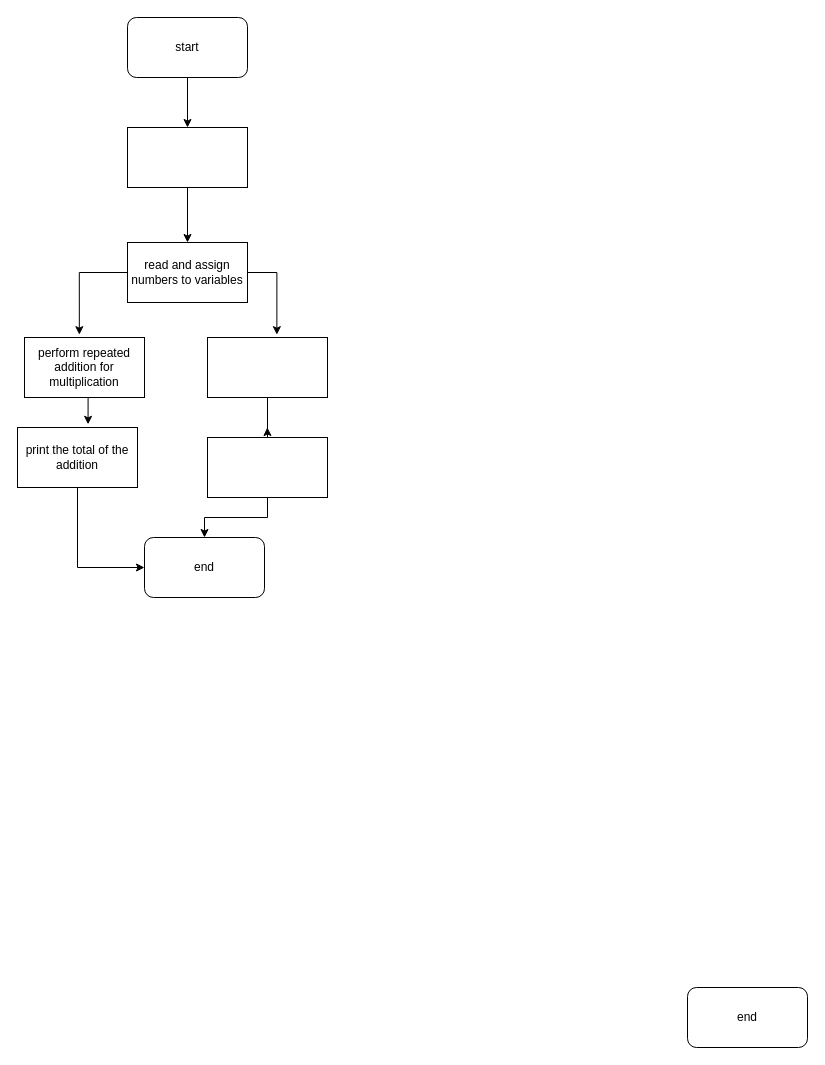
Some shapes in this 825 by 1065 pixel diagram are drawn without their labels. The box of each missing label's shape, as (x1, y1, x2, y2) in pixels:
perform repeated subtraction for division and count: (206, 336, 328, 398)
print the number of times subtraction occured: (206, 436, 328, 498)
prompt for 2 numbers: (126, 126, 248, 188)
